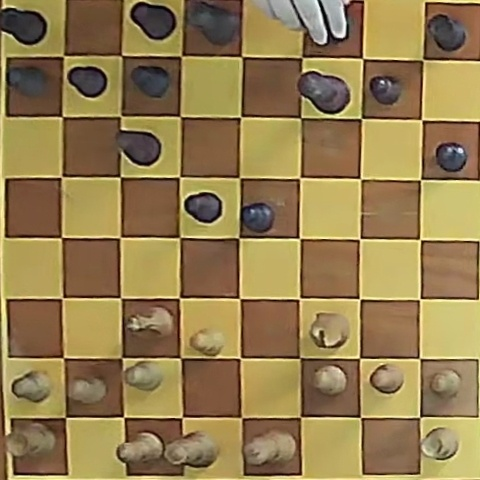black-bishop: (130, 2, 177, 41)
black-king: (298, 72, 350, 114)
black-knight: (115, 130, 161, 166)
black-pawn: (68, 65, 108, 98), (130, 66, 171, 98), (7, 66, 48, 97), (185, 192, 222, 223), (241, 202, 274, 232), (436, 142, 467, 172), (370, 76, 402, 105)
black-queen: (187, 1, 240, 46)
black-rook: (0, 7, 47, 46), (427, 13, 467, 52)
white-bishop: (118, 431, 165, 464)
white-king: (243, 429, 296, 466)
white-knight: (126, 306, 173, 337), (310, 313, 349, 348)
white-pawn: (12, 370, 52, 403), (125, 361, 163, 390), (69, 376, 107, 404), (313, 365, 347, 395), (370, 364, 404, 394), (190, 328, 225, 356), (430, 369, 461, 398)
white-queen: (164, 431, 218, 467)
white-rook: (6, 422, 56, 458), (421, 427, 460, 460)
